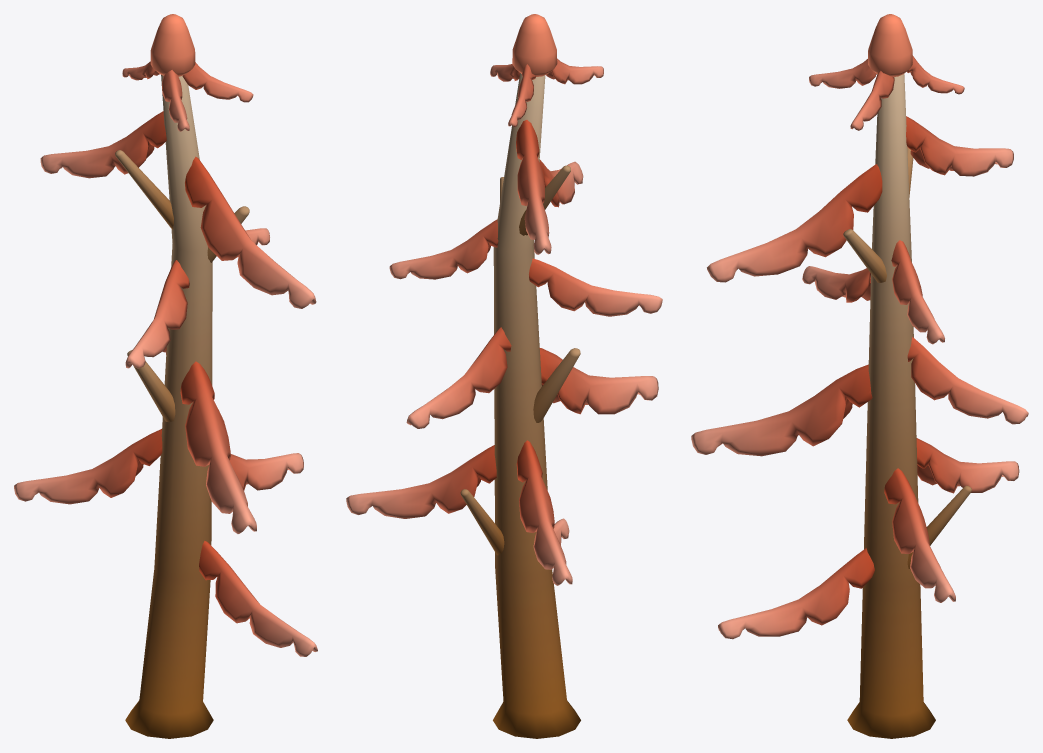
Rendered from Tree09.fbx.
3 views of the same model, side by side, from view 1: azimuth 30°, elevation 25°; view 2: azimuth 150°, elevation 25°; view 3: azimuth 270°, elevation 25° (orthographic).
Visible parts, largest first — view 1: Tree09Bl_LOD0, Tree09B_LOD0; view 2: Tree09Bl_LOD0, Tree09B_LOD0; view 3: Tree09Bl_LOD0, Tree09B_LOD0.
Part boxes in pixels (left/top/right/bottom): Tree09Bl_LOD0: left=14, top=14, right=317, bottom=656; Tree09B_LOD0: left=115, top=74, right=249, bottom=738; Tree09Bl_LOD0: left=346, top=14, right=662, bottom=585; Tree09B_LOD0: left=460, top=73, right=580, bottom=738; Tree09Bl_LOD0: left=691, top=14, right=1028, bottom=639; Tree09B_LOD0: left=843, top=74, right=971, bottom=738.
Size of what is drawn, in the model's own units: 2.97 by 3.39 by 7.82.
